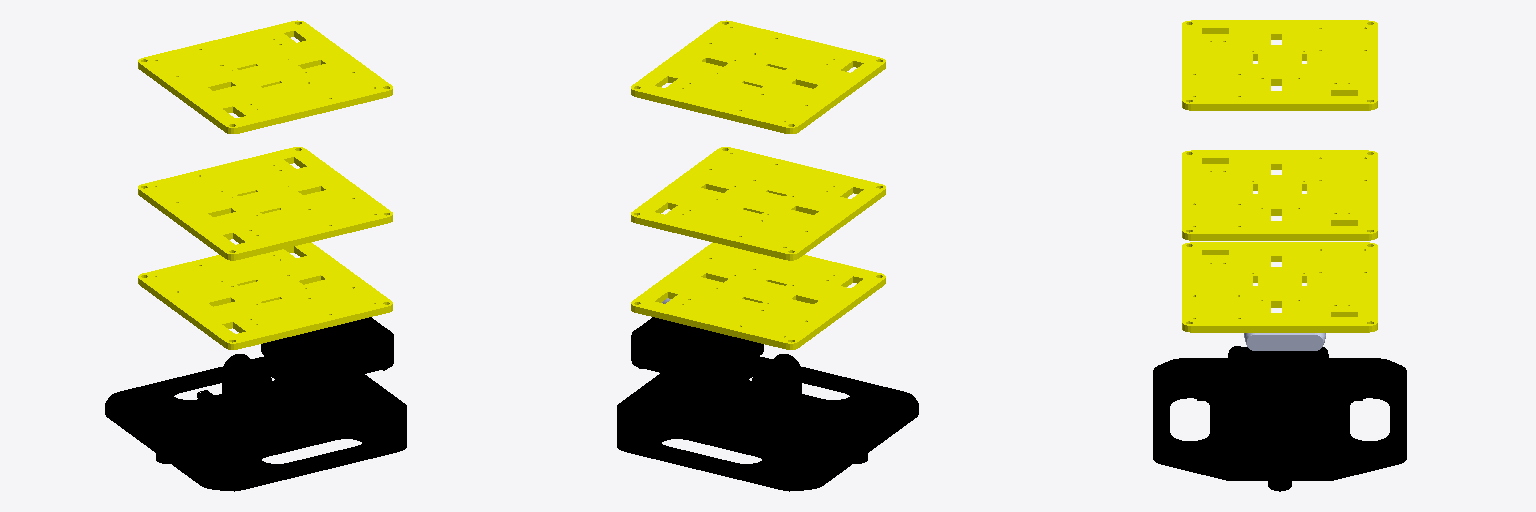
URDF robot description (rom2109):
<?xml version="1.0" encoding="utf-8"?>
<!-- This URDF was automatically created by SolidWorks to URDF Exporter! Originally created by [author] ([email redacted]) 
     Commit Version: 1.6.0-1-g15f4949  Build Version: 1.6.7594.29634
     For more information, please see http://wiki.ros.org/sw_urdf_exporter -->
<robot
  name="rom2109">
  <link
    name="base_link">
    <inertial>
      <origin
        xyz="0.0018801 0.00063186 0.013703"
        rpy="0 0 0" />
      <mass
        value="2.3926" />
      <inertia
        ixx="0.012278"
        ixy="5.4399E-06"
        ixz="2.5169E-07"
        iyy="0.01532"
        iyz="-7.22E-06"
        izz="0.024356" />
    </inertial>
    <visual>
      <origin
        xyz="0 0 0"
        rpy="0 0 0" />
      <geometry>
        <mesh
          filename="package://rom2109_description/meshes/tall/base_link.STL" />
      </geometry>
      <material
        name="">
        <color
          rgba="0 0 0 1" />
      </material>
    </visual>
    <collision>
      <origin
        xyz="0 0 0"
        rpy="0 0 0" />
      <geometry>
        <mesh
          filename="package://rom2109_description/meshes/tall/base_link.STL" />
      </geometry>
    </collision>
  </link>
  <link
    name="right_wheel">
    <inertial>
      <origin
        xyz="5.2042E-18 -0.0009488 1.1102E-16"
        rpy="0 0 0" />
      <mass
        value="2.8826" />
      <inertia
        ixx="0.0029015"
        ixy="8.8473E-19"
        ixz="1.0826E-19"
        iyy="0.00525"
        iyz="8.1336E-18"
        izz="0.0029015" />
    </inertial>
    <visual>
      <origin
        xyz="0 0 0"
        rpy="0 0 0" />
      <geometry>
        <mesh
          filename="package://rom2109_description/meshes/tall/right_wheel.STL" />
      </geometry>
      <material
        name="">
        <color
          rgba="0.79608 0.82353 0.93725 1" />
      </material>
    </visual>
    <collision>
      <origin
        xyz="0 0 0"
        rpy="0 0 0" />
      <geometry>
        <mesh
          filename="package://rom2109_description/meshes/tall/right_wheel.STL" />
      </geometry>
    </collision>
  </link>
  <joint
    name="right_wheel_joint"
    type="continuous">
    <origin
      xyz="0 -0.098333 0.02605"
      rpy="0 0 0" />
    <parent
      link="base_link" />
    <child
      link="right_wheel" />
    <axis
      xyz="0 1 0" />
  </joint>
  <link
    name="left_wheel">
    <inertial>
      <origin
        xyz="1.70261374443648E-13 0.000948803305975868 5.84532422465145E-14"
        rpy="0 0 0" />
      <mass
        value="2.88257784807586" />
      <inertia
        ixx="0.00290151800584146"
        ixy="-9.17143296382601E-15"
        ixz="6.05064629220322E-15"
        iyy="0.00524996334354856"
        iyz="-2.7078542422645E-15"
        izz="0.00290151800582675" />
    </inertial>
    <visual>
      <origin
        xyz="0 0 0"
        rpy="0 0 0" />
      <geometry>
        <mesh
          filename="package://rom2109_description/meshes/tall/left_wheel.STL" />
      </geometry>
      <material
        name="">
        <color
          rgba="0.796078431372549 0.823529411764706 0.937254901960784 1" />
      </material>
    </visual>
    <collision>
      <origin
        xyz="0 0 0"
        rpy="0 0 0" />
      <geometry>
        <mesh
          filename="package://rom2109_description/meshes/tall/left_wheel.STL" />
      </geometry>
    </collision>
  </link>
  <joint
    name="left_wheel_joint"
    type="continuous">
    <origin
      xyz="0 0.098333 0.02605"
      rpy="0 0 0" />
    <parent
      link="base_link" />
    <child
      link="left_wheel" />
    <axis
      xyz="0 1 0" />
  </joint>
  <link
    name="plate1">
    <inertial>
      <origin
        xyz="0.00237736961809817 -0.00318479486350609 0.0037769125523156"
        rpy="0 0 0" />
      <mass
        value="0.376303345586596" />
      <inertia
        ixx="0.00140681231884876"
        ixy="3.65375356586582E-05"
        ixz="1.48900919093625E-17"
        iyy="0.00141154373447315"
        iyz="-5.24274468346476E-18"
        izz="0.00281452124473489" />
    </inertial>
    <visual>
      <origin
        xyz="0 0 0"
        rpy="0 0 0" />
      <geometry>
        <mesh
          filename="package://rom2109_description/meshes/tall/plate1.STL" />
      </geometry>
      <material
        name="">
        <color
          rgba="1 1 0 1" />
      </material>
    </visual>
    <collision>
      <origin
        xyz="0 0 0"
        rpy="0 0 0" />
      <geometry>
        <mesh
          filename="package://rom2109_description/meshes/tall/plate1.STL" />
      </geometry>
    </collision>
  </link>
  <joint
    name="plate1_joint"
    type="fixed">
    <origin
      xyz="-0.0038733 0 0.15505"
      rpy="0 0 0" />
    <parent
      link="base_link" />
    <child
      link="plate1" />
    <axis
      xyz="0 0 0" />
  </joint>
  <link
    name="camera">
    <inertial>
      <origin
        xyz="-0.013048 -0.0002462 6.0567E-05"
        rpy="0 0 0" />
      <mass
        value="0.044752" />
      <inertia
        ixx="2.7278E-05"
        ixy="-2.4434E-07"
        ixz="1.174E-09"
        iyy="3.9447E-06"
        iyz="-2.8019E-09"
        izz="2.7362E-05" />
    </inertial>
    <visual>
      <origin
        xyz="0 0 0"
        rpy="0 0 0" />
      <geometry>
        <mesh
          filename="package://rom2109_description/meshes/tall/camera.STL" />
      </geometry>
      <material
        name="">
        <color
          rgba="0.79216 0.81961 0.93333 1" />
      </material>
    </visual>
    <collision>
      <origin
        xyz="0 0 0"
        rpy="0 0 0" />
      <geometry>
        <mesh
          filename="package://rom2109_description/meshes/tall/camera.STL" />
      </geometry>
    </collision>
  </link>
  <joint
    name="camera_joint"
    type="fixed">
    <origin
      xyz="0.1095 0.0055774 -0.0125"
      rpy="0 0 0" />
    <parent
      link="plate1" />
    <child
      link="camera" />
    <axis
      xyz="0 0 0" />
  </joint>
  <link
    name="lidar">
    <inertial>
      <origin
        xyz="-0.00745026268241726 -0.000710181573741274 0.0106681277328404"
        rpy="0 0 0" />
      <mass
        value="1.33076913637071" />
      <inertia
        ixx="0.000617412562574113"
        ixy="-2.92747154921629E-05"
        ixz="0.000157957059991761"
        iyy="0.000958202713497202"
        iyz="9.99903112863992E-06"
        izz="0.00109815200027136" />
    </inertial>
    <visual>
      <origin
        xyz="0 0 0"
        rpy="0 0 0" />
      <geometry>
        <mesh
          filename="package://rom2109_description/meshes/tall/lidar.STL" />
      </geometry>
      <material
        name="">
        <color
          rgba="0.792156862745098 0.819607843137255 0.933333333333333 1" />
      </material>
    </visual>
    <collision>
      <origin
        xyz="0 0 0"
        rpy="0 0 0" />
      <geometry>
        <mesh
          filename="package://rom2109_description/meshes/tall/lidar.STL" />
      </geometry>
    </collision>
  </link>
  <joint
    name="lidar_joint"
    type="fixed">
    <origin
      xyz="0.015998 -0.0015802 0.0326"
      rpy="0 0 0" />
    <parent
      link="plate1" />
    <child
      link="lidar" />
    <axis
      xyz="0 0 0" />
  </joint>
  <link
    name="plate2">
    <inertial>
      <origin
        xyz="6.2039E-05 5.5952E-05 0.004"
        rpy="0 0 0" />
      <mass
        value="0.35881" />
      <inertia
        ixx="0.0014023"
        ixy="3.6515E-05"
        ixz="1.454E-17"
        iyy="0.001401"
        iyz="-5.3509E-18"
        izz="0.0027995" />
    </inertial>
    <visual>
      <origin
        xyz="0 0 0"
        rpy="0 0 0" />
      <geometry>
        <mesh
          filename="package://rom2109_description/meshes/tall/plate2.STL" />
      </geometry>
      <material
        name="">
        <color
          rgba="1 1 0 1" />
      </material>
    </visual>
    <collision>
      <origin
        xyz="0 0 0"
        rpy="0 0 0" />
      <geometry>
        <mesh
          filename="package://rom2109_description/meshes/tall/plate2.STL" />
      </geometry>
    </collision>
  </link>
  <joint
    name="plate2_joint"
    type="fixed">
    <origin
      xyz="-0.0038733 0 0.2668"
      rpy="0 0 0" />
    <parent
      link="base_link" />
    <child
      link="plate2" />
    <axis
      xyz="0 0 0" />
  </joint>
  <link
    name="plate3">
    <inertial>
      <origin
        xyz="0 0 0"
        rpy="0 0 0" />
      <mass
        value="0" />
      <inertia
        ixx="0"
        ixy="0"
        ixz="0"
        iyy="0"
        iyz="0"
        izz="0" />
    </inertial>
    <visual>
      <origin
        xyz="0 0 0"
        rpy="0 0 0" />
      <geometry>
        <mesh
          filename="package://rom2109_description/meshes/tall/plate3.STL" />
      </geometry>
      <material
        name="">
        <color
          rgba="1 1 0 1" />
      </material>
    </visual>
    <collision>
      <origin
        xyz="0 0 0"
        rpy="0 0 0" />
      <geometry>
        <mesh
          filename="package://rom2109_description/meshes/tall/plate3.STL" />
      </geometry>
    </collision>
  </link>
  <joint
    name="plate3_joint"
    type="fixed">
    <origin
      xyz="-0.00387334814860704 0 0.424802362186551"
      rpy="0 0 0" />
    <parent
      link="base_link" />
    <child
      link="plate3" />
    <axis
      xyz="0 0 0" />
  </joint>

    <!--GAZEBO ADD BY ROM ROBOTICS-->
  
  <!-- here is the gazebo plug-in to simulate a lidar sensor -->
  <gazebo reference="lidar">
    <sensor type="ray" name="head_hokuyo_sensor">
    <!--sensor type="gpu_ray" name="sick_lidar_sensor"-->
      <pose>0 0 0 0 0 0</pose>
      <visualize>true</visualize>
      <update_rate>40</update_rate>
      <ray>
        <scan>
          <horizontal>
            <samples>720</samples>
            <resolution>1</resolution>
            <min_angle>-1.570796</min_angle>
            <max_angle>1.570796</max_angle>
          </horizontal>
        </scan>
        <range>
          <min>0.10</min>
          <max>30.0</max>
          <resolution>0.01</resolution>
        </range>
        <noise>
          <type>gaussian</type>
          <mean>0.0</mean>
          <stddev>0.01</stddev>
        </noise>
      </ray>
      <!--plugin name="gazebo_ros_lidar_controller" filename="libgazebo_ros_gpu_laser.so"-->
      <plugin name="gazebo_ros_head_hokuyo_controller" filename="libgazebo_ros_laser.so">
        <topicName>/scan</topicName>
        <frameName>lidar</frameName>
      </plugin>
    </sensor>
  </gazebo>  

<gazebo>
  <plugin name="gazebo_ros_control" filename="libgazebo_ros_contol.so">
  </plugin>
</gazebo>

 <!-- Colour -->
  <gazebo reference="base_link">
    <material>Gazebo/Black</material>
  </gazebo>

  <gazebo reference="plate1">
    <material>Gazebo/Yellow</material>
  </gazebo>

   <gazebo reference="plate2">
    <material>Gazebo/Yellow</material>
  </gazebo>

   <gazebo reference="plate3">
    <material>Gazebo/Yellow</material>
  </gazebo>

  <gazebo>
    <plugin name="differential_drive_controller" filename="libgazebo_ros_diff_drive.so">
      <alwaysOn>true</alwaysOn>
	    <updateRate>10.0</updateRate> 
		  <robotBaseFrame>base_link</robotBaseFrame>
		  <publishWheelTF>true</publishWheelTF>
		  <publishWheelJointState>true</publishWheelJointState>
		  <wheelAcceleration>1</wheelAcceleration>
		  <leftJoint>left_wheel_joint</leftJoint>
		  <rightJoint>right_wheel_joint</rightJoint>
		  <wheelSeparation>0.33</wheelSeparation>
		  <wheelDiameter>0.17</wheelDiameter>
		  <wheelTorque>20</wheelTorque>
		  <commandTopic>cmd_vel</commandTopic>
		  <odometryTopic>odom</odometryTopic>
		  <odometryFrame>odom</odometryFrame>
    </plugin>
 </gazebo> 
</robot>

--- Facts derived from the render (not from the file) ---
Views: 3 orthographic renders of the robot side by side, from view 1: azimuth 30°, elevation 25°; view 2: azimuth 150°, elevation 25°; view 3: azimuth 270°, elevation 25°.
Robot: rom2109 — 8 links, 7 joints (2 continuous, 5 fixed); root link base_link; default pose: all joints at 0.
Visible links, largest first — view 1: base_link, plate2, plate3, plate1; view 2: base_link, plate2, plate3, plate1; view 3: base_link, plate1, plate2, plate3, camera.
Boxes of the visible links, x1,y1,x2,y2 form: base_link: [105, 317, 406, 491]; plate2: [138, 147, 392, 260]; plate3: [138, 20, 392, 133]; plate1: [138, 242, 392, 349]; base_link: [617, 317, 918, 491]; plate2: [631, 147, 885, 260]; plate3: [631, 20, 885, 133]; plate1: [631, 242, 885, 349]; base_link: [1153, 346, 1406, 491]; plate1: [1182, 242, 1377, 332]; plate2: [1182, 150, 1377, 240]; plate3: [1182, 20, 1377, 110]; camera: [1244, 333, 1325, 350].
Bounding box of the posed robot: 0.3 × 0.28 × 0.4569 m (x, y, z).
5 mesh visuals loaded from 8 distinct referenced files (5 binary STL); not drawn: 3 (reference not matched to a file when rendering).
